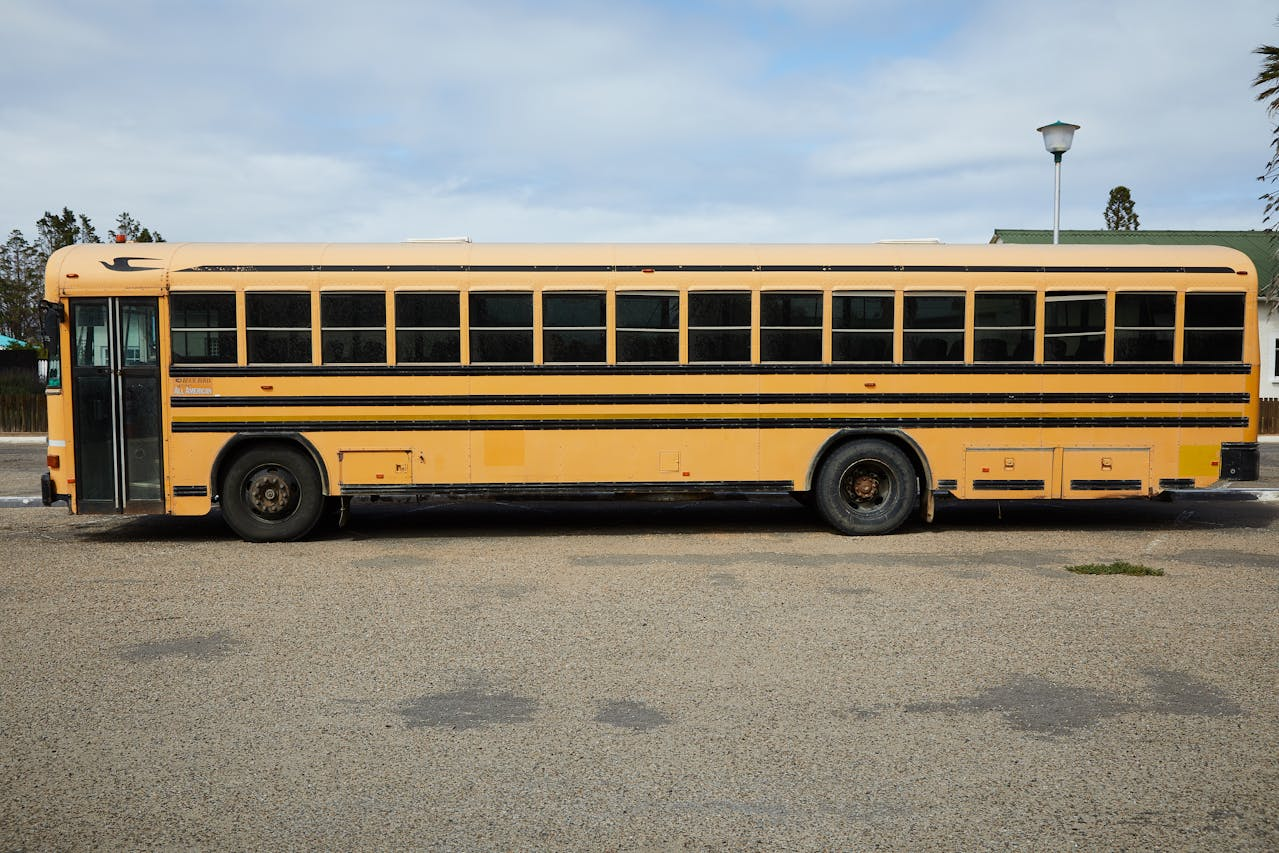bus: (18, 204, 1264, 545)
